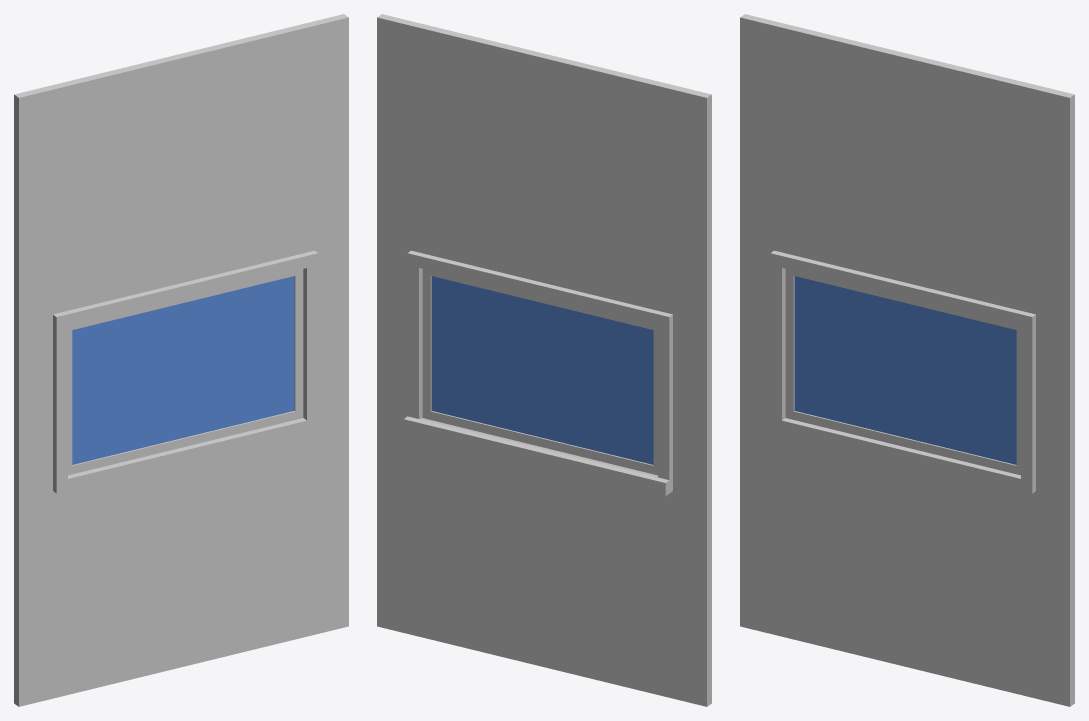
The model's file is WallWindow.fbx.
The picture shows the model from 3 angles, left to right: view 1: azimuth 30°, elevation 25°; view 2: azimuth 150°, elevation 25°; view 3: azimuth 330°, elevation 25°; orthographic projection.
Parts seen in each view (by area): view 1: Wall.001; view 2: Wall.001; view 3: Wall.001.
Part boxes in pixels (box(x1,y1,x2,y2)): Wall.001: box(14, 14, 348, 706); Wall.001: box(377, 14, 711, 706); Wall.001: box(740, 14, 1074, 706).
Bounding box in the file's own units: 4 × 7.06 × 0.3325.
